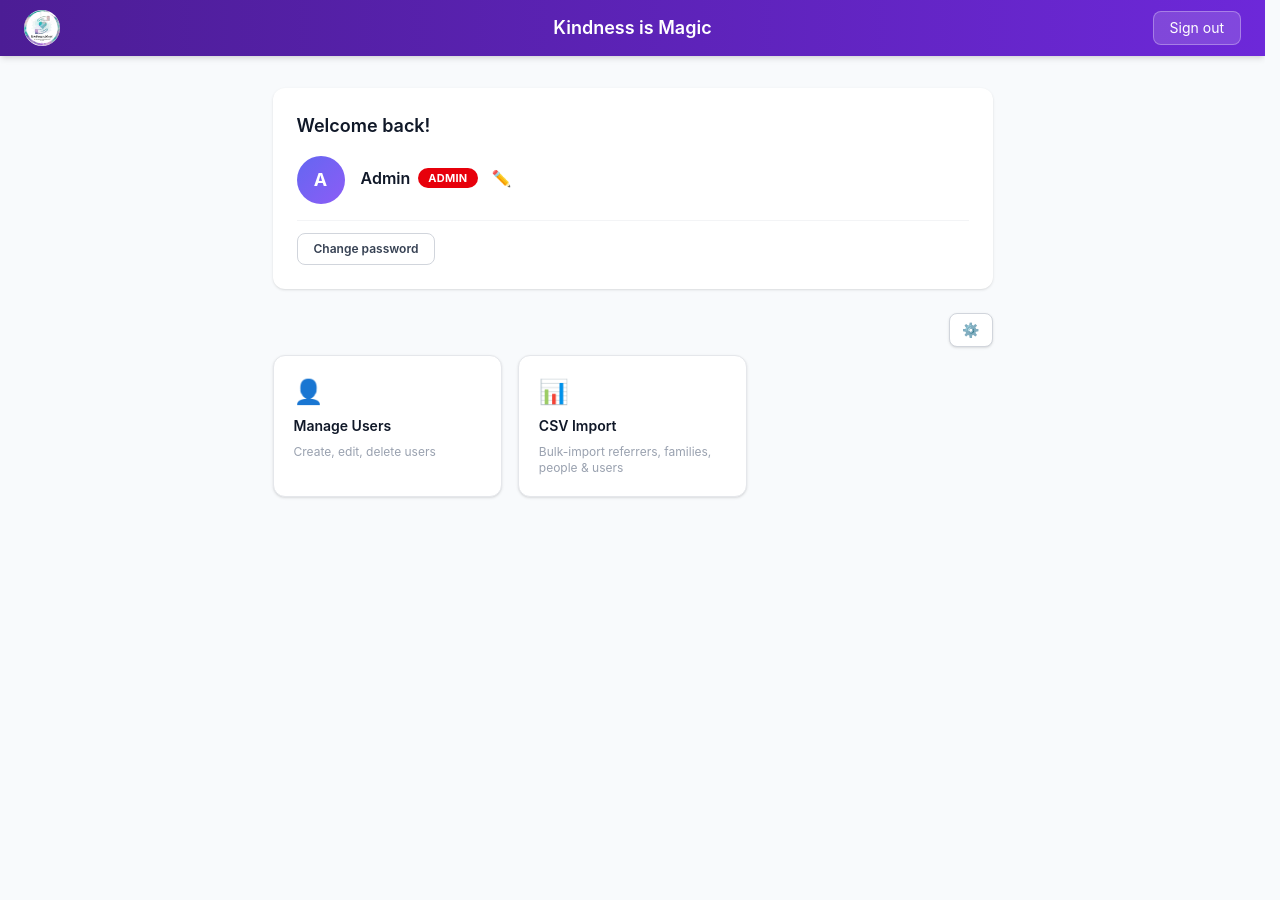
Test: Dashboard — admin tiles › restores the default tiles via Reset (CSV Import stays hidden)
This screenshot has width=1280, height=900.
What coordinates should you click on to do the following:
click the button named "Toggle dashboard tiles"
I would click on:
 (971, 330)
Its box is top-left (949, 313), bottom-right (992, 347).
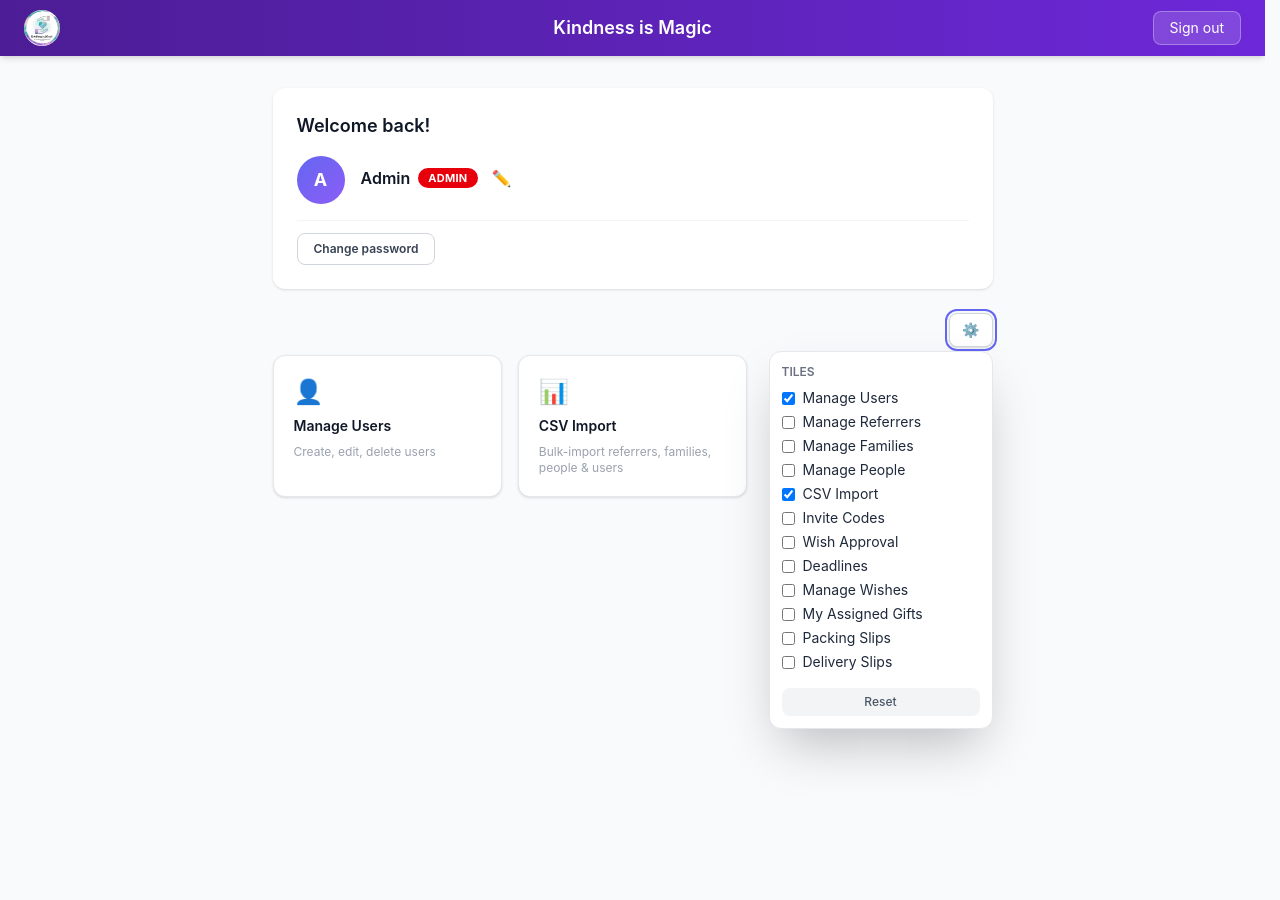
What coordinates should you click on to do the following:
click the button "Reset"
I would click on:
 (880, 702)
Its box is top-left (782, 688), bottom-right (980, 716).
(page scrolled)
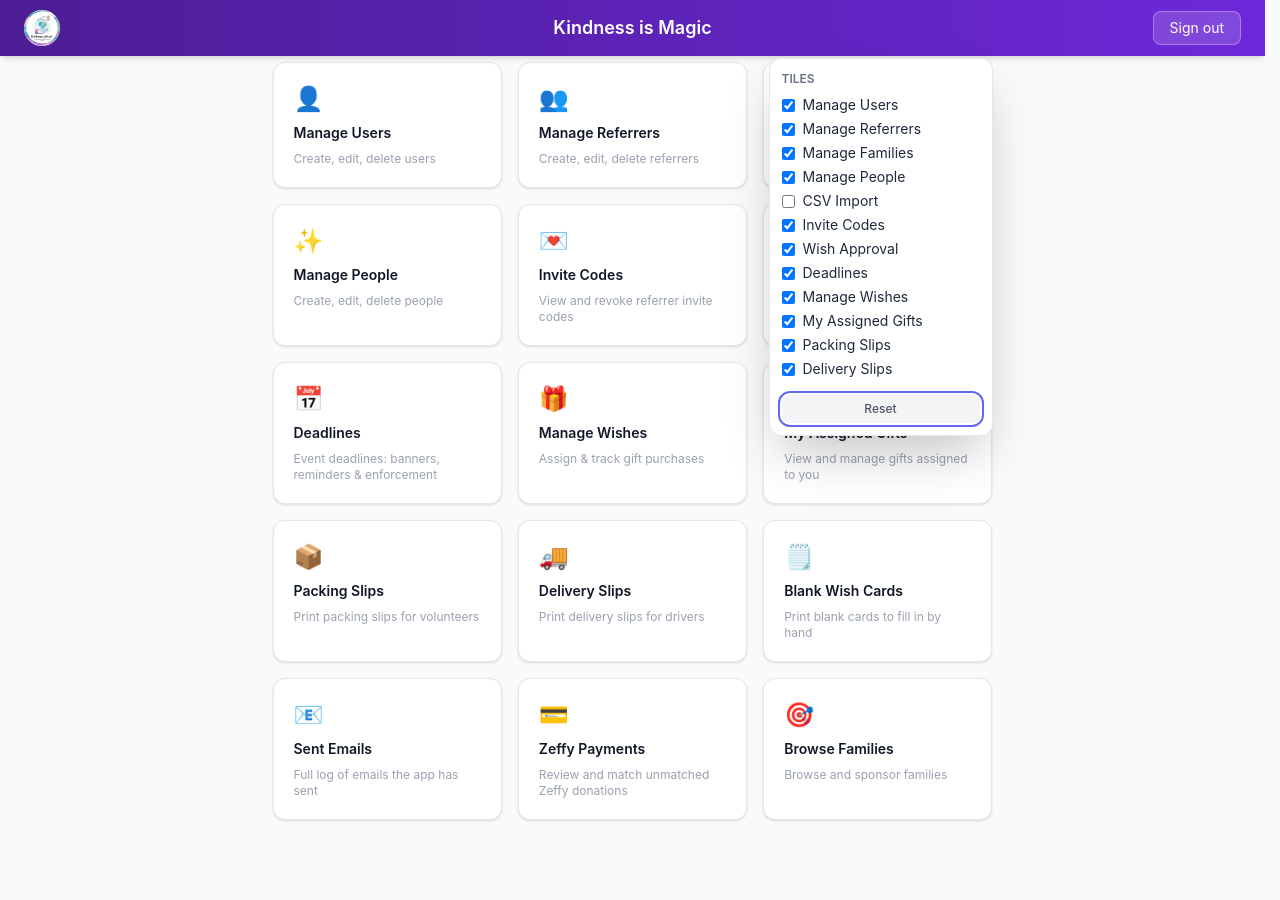
Now the link "👥 Manage Referrers Create, edit, delete referrers" is shown, box top-left (518, 62), bottom-right (747, 188)
Now the link "🏠 Manage Families Create, edit, delete families" is shown, box top-left (763, 62), bottom-right (992, 188)
Now the link "✨ Manage People Create, edit, delete people" is shown, box top-left (272, 204), bottom-right (502, 346)
